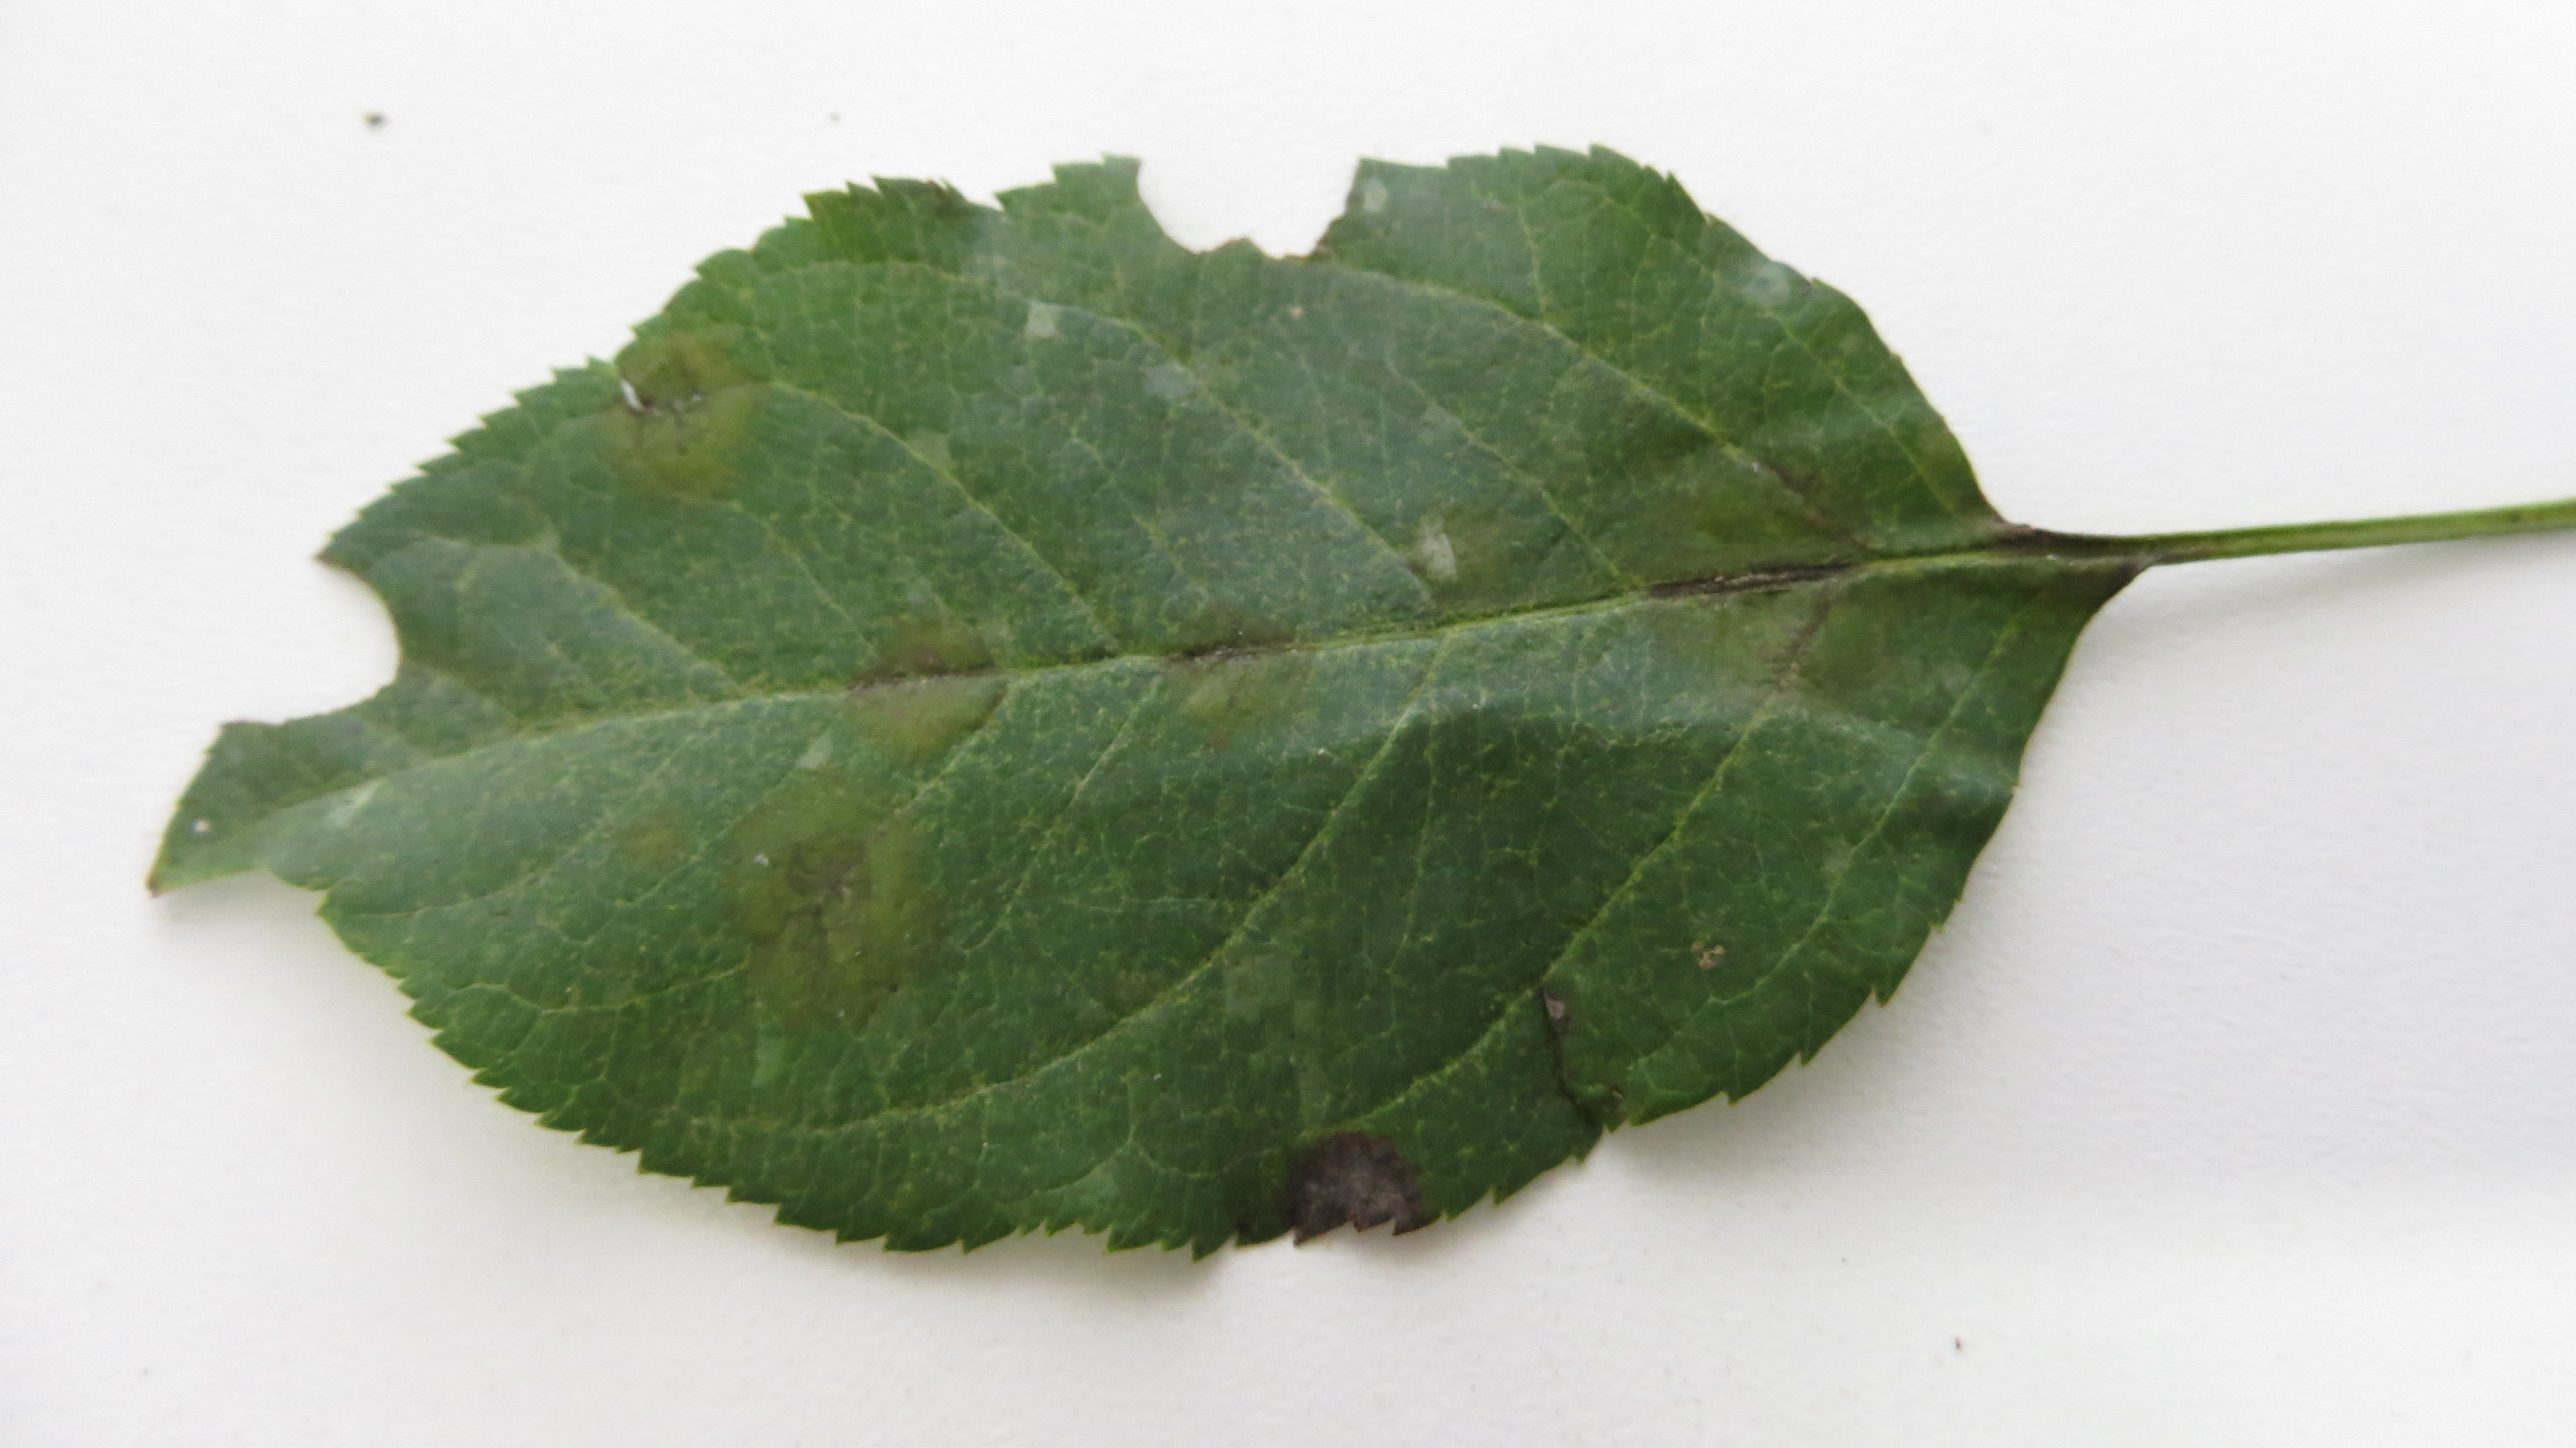sarna: (1617, 441, 1870, 697), (725, 774, 943, 1027), (587, 313, 778, 515), (846, 597, 1031, 770), (1136, 570, 1311, 745), (1265, 1090, 1433, 1253), (1414, 474, 1555, 600)
